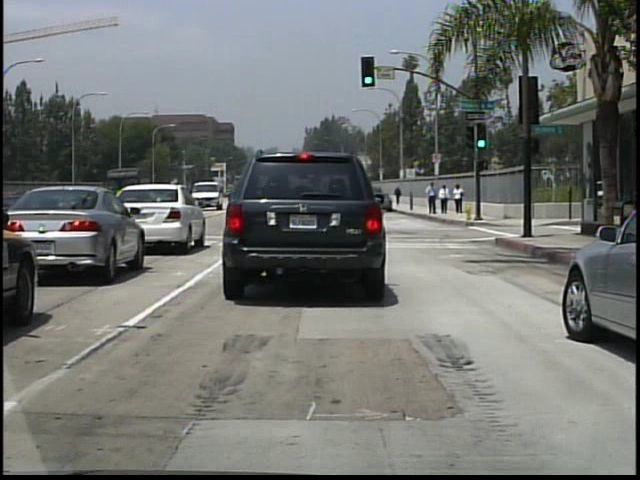person: (428, 179, 441, 216), (453, 183, 466, 216), (440, 183, 453, 215), (393, 185, 403, 207)
